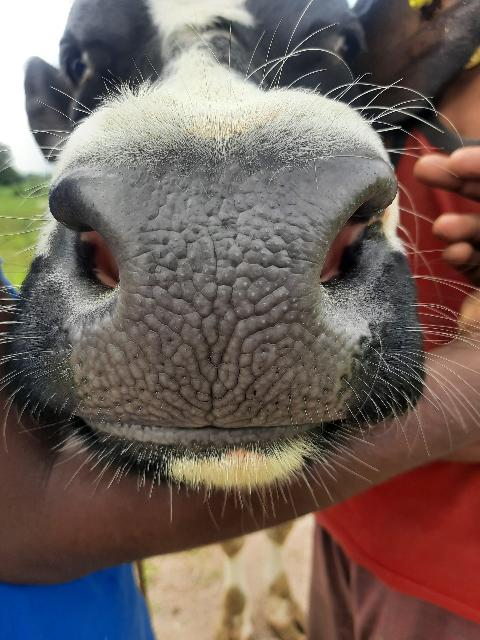Muzzle: (85, 173, 337, 425)
